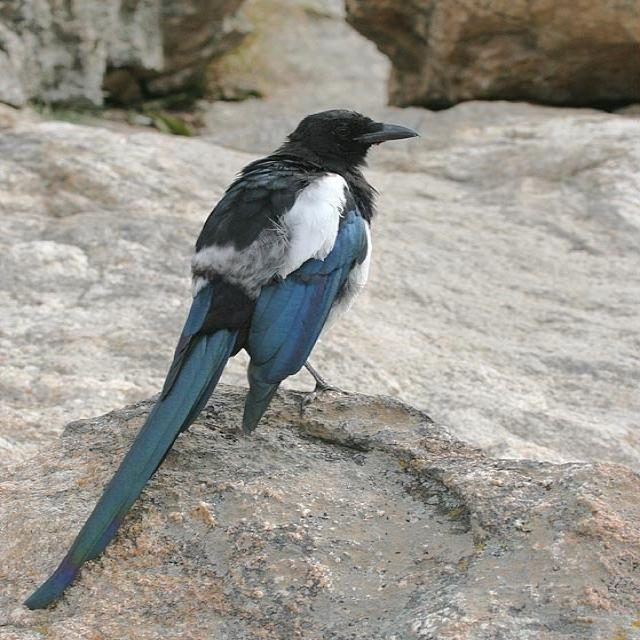bird: (19, 98, 422, 618)
